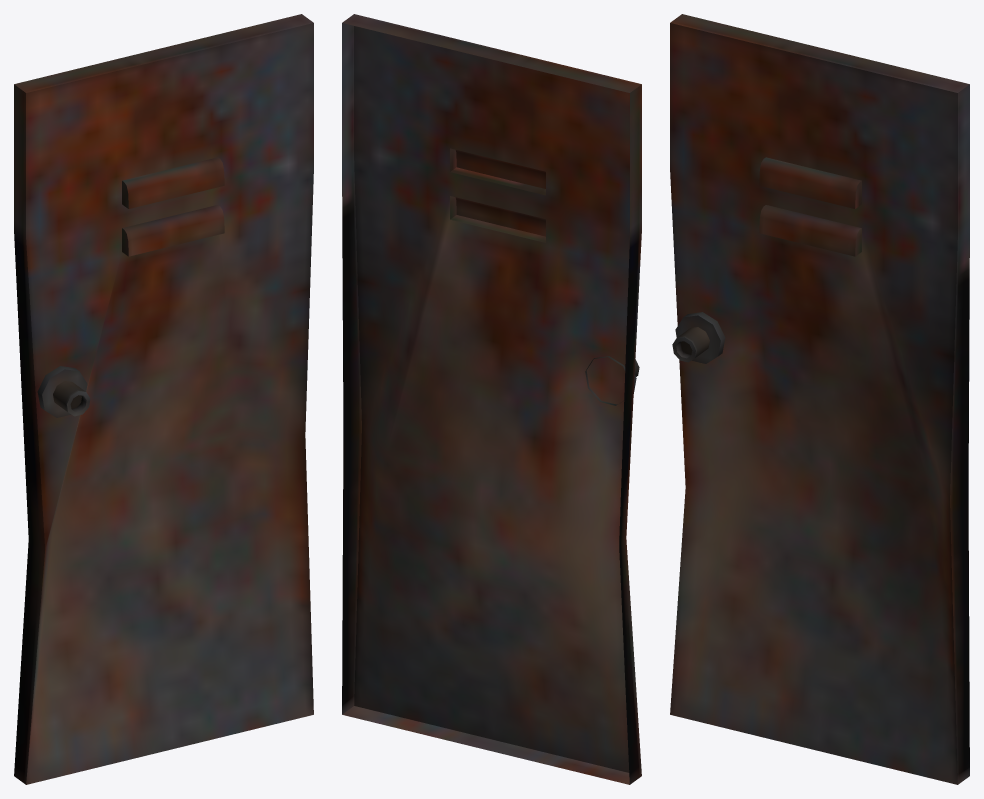
File: LockerDoor.FBX
3 views of the same model, side by side, from view 1: azimuth 30°, elevation 25°; view 2: azimuth 150°, elevation 25°; view 3: azimuth 330°, elevation 25° (orthographic).
Visible parts, largest first — view 1: LockerDoor; view 2: LockerDoor; view 3: LockerDoor.
Part boxes in pixels (x1,y1,x2,y2): LockerDoor: (14,14,313,784); LockerDoor: (342,14,641,784); LockerDoor: (670,14,969,784).
Bounding box in the file's own units: 35.63 × 81.85 × 9.31.
